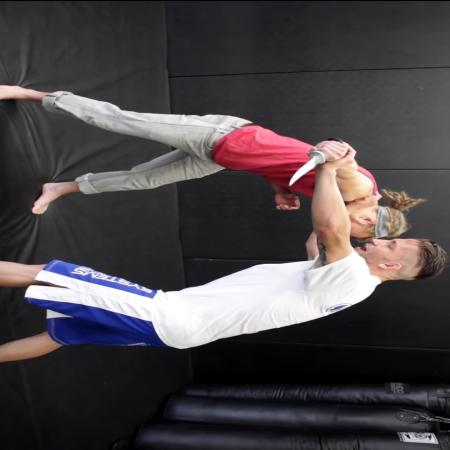long weapon: (283, 132, 347, 189)
